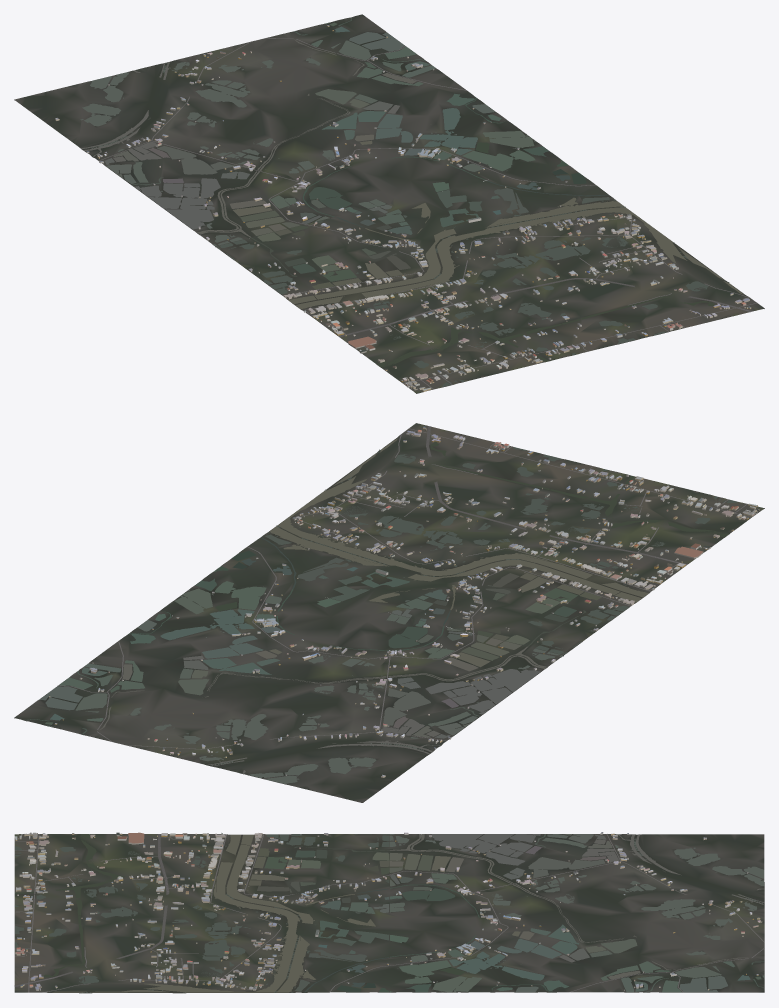
3 views of the same model, one above another, from view 1: azimuth 30°, elevation 25°; view 2: azimuth 150°, elevation 25°; view 3: azimuth 270°, elevation 25° (orthographic). The views are drawn at different scales.
Visible parts, largest first — view 1: ground, water, buildings, roads; view 2: ground, water, buildings, roads; view 3: ground, water, buildings, roads.
Boxes of the visible parts, left/top/right/bottom form: ground: left=14, top=14, right=764, bottom=393; water: left=80, top=18, right=743, bottom=393; buildings: left=55, top=25, right=751, bottom=391; roads: left=98, top=38, right=757, bottom=389; ground: left=14, top=423, right=764, bottom=802; water: left=26, top=438, right=763, bottom=783; buildings: left=49, top=426, right=759, bottom=777; roads: left=57, top=426, right=751, bottom=749; ground: left=14, top=834, right=764, bottom=993; water: left=15, top=834, right=764, bottom=993; buildings: left=14, top=832, right=762, bottom=990; roads: left=14, top=834, right=764, bottom=992.
Size of the model in its own units: 1410 by 14.72 by 2805.
